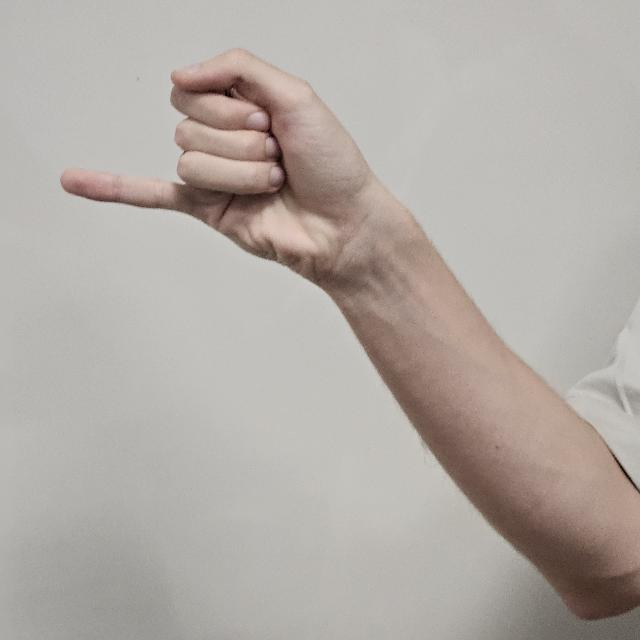Esquerda: (53, 41, 371, 301)
